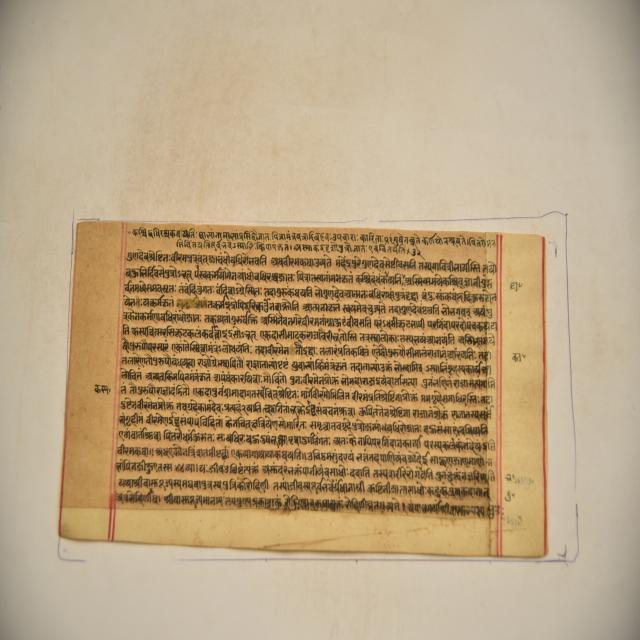text_paragraph: (56, 222, 547, 559)
